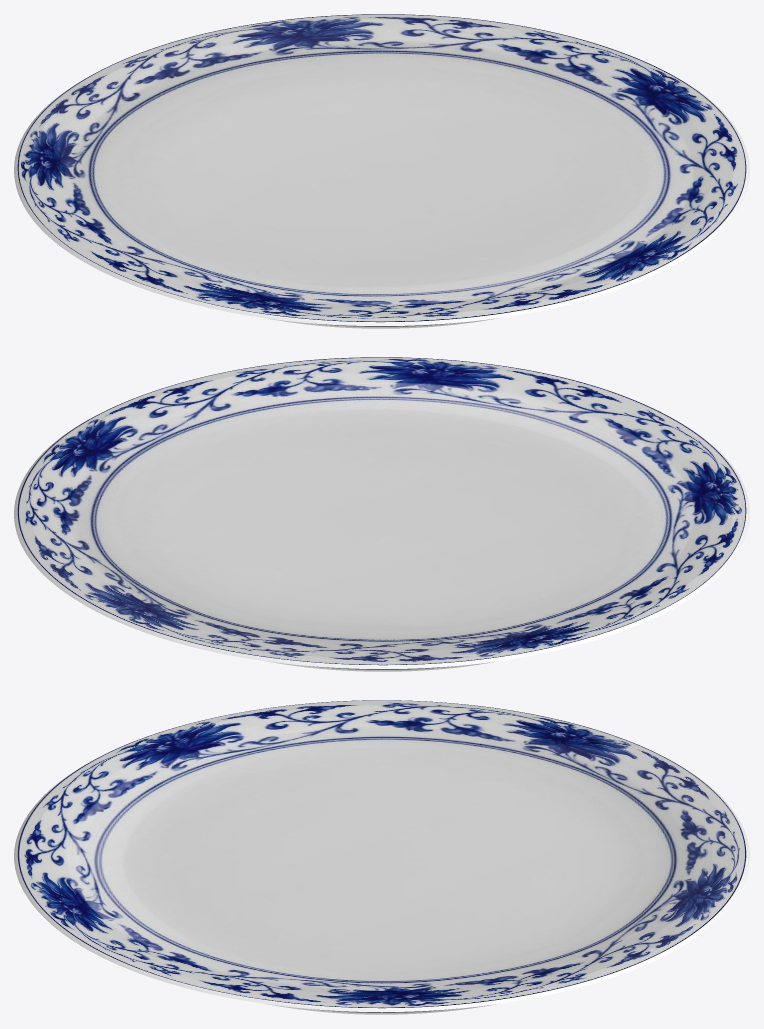
File: plato-1.obj
3 views of the same model, one above another, from view 1: azimuth 30°, elevation 25°; view 2: azimuth 150°, elevation 25°; view 3: azimuth 270°, elevation 25° (orthographic).
Parts seen in each view (by area): view 1: plato_1:Mesh; view 2: plato_1:Mesh; view 3: plato_1:Mesh.
Part boxes in pixels (bbox=[...]): plato_1:Mesh: bbox=[14, 14, 749, 328]; plato_1:Mesh: bbox=[14, 357, 749, 671]; plato_1:Mesh: bbox=[14, 700, 749, 1014].
Bounding box in the file's own units: 2.22 × 0.1412 × 2.22.
Materials: 2 (2 with a texture image).
